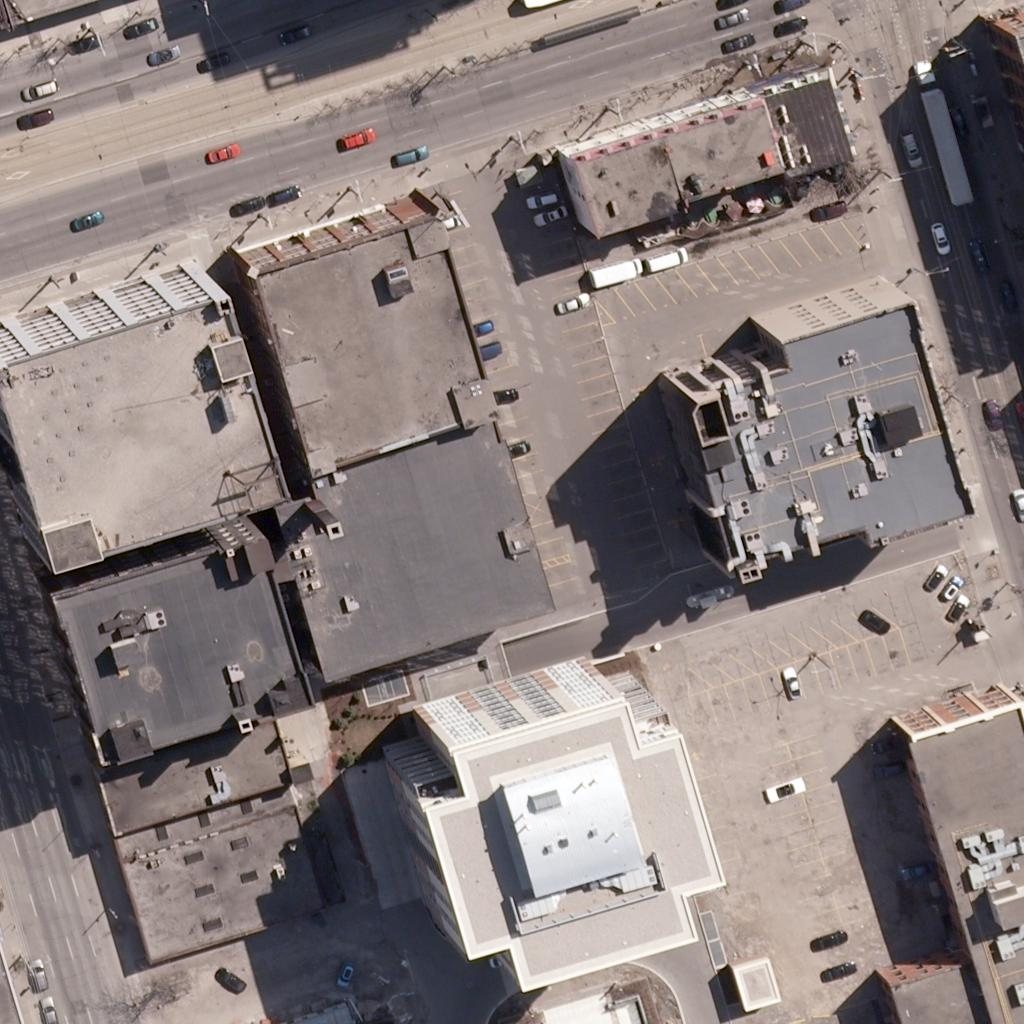car: (778, 6, 812, 40), (126, 11, 160, 45), (277, 17, 311, 51), (724, 24, 758, 58), (66, 26, 100, 60), (144, 38, 178, 72), (198, 43, 232, 77), (25, 73, 59, 107), (17, 100, 51, 134), (942, 106, 976, 140), (336, 122, 370, 156), (894, 132, 928, 166), (204, 135, 238, 169), (392, 140, 426, 174), (264, 177, 298, 211), (528, 181, 562, 215), (230, 189, 264, 223), (814, 193, 848, 227), (535, 198, 569, 232), (69, 204, 103, 238), (922, 217, 956, 251), (961, 236, 995, 270), (654, 240, 688, 274), (555, 287, 589, 321), (465, 311, 499, 345), (474, 332, 508, 366), (487, 376, 521, 410), (975, 395, 1009, 429), (500, 432, 534, 466), (918, 559, 952, 593), (933, 571, 967, 605), (939, 590, 973, 624), (856, 603, 890, 637), (775, 666, 809, 700), (869, 726, 903, 760), (876, 753, 910, 787), (770, 770, 804, 804), (903, 852, 937, 886), (812, 920, 846, 954), (822, 952, 856, 986), (19, 958, 53, 992), (327, 958, 361, 992), (213, 965, 247, 999), (991, 279, 1024, 313), (717, 0, 751, 32), (32, 997, 66, 1024), (1004, 487, 1024, 521), (782, 0, 816, 16)
